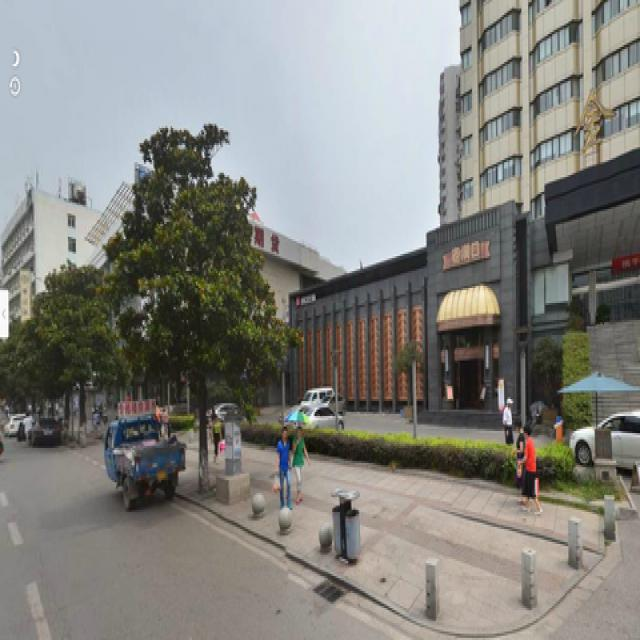magn: (137, 134, 266, 497)
